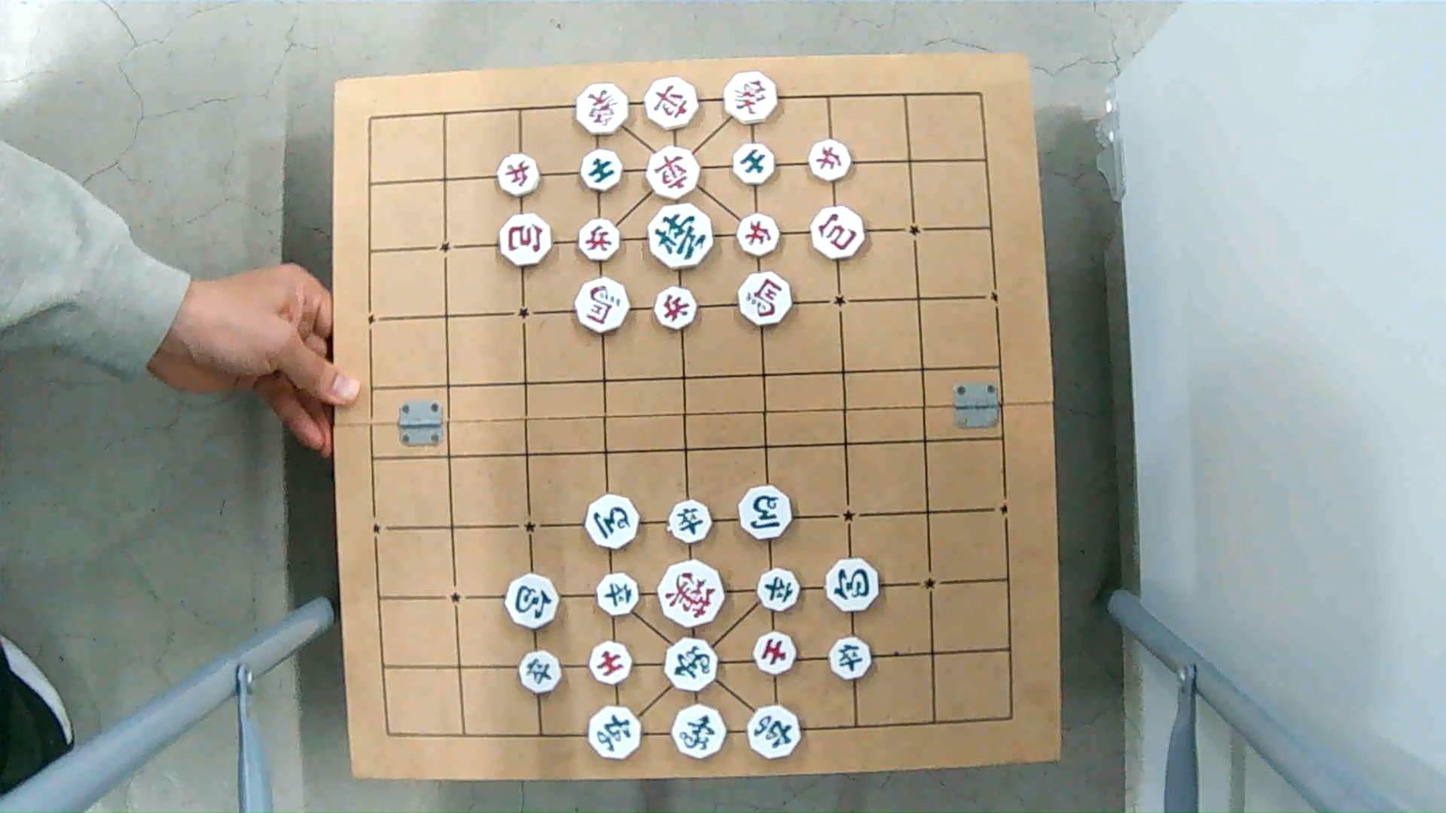cha_green: (589, 708, 645, 759), (750, 705, 803, 758)
cha_red: (645, 148, 701, 197), (644, 78, 700, 126)
jol_green: (667, 501, 713, 542), (593, 577, 639, 618), (829, 640, 874, 681), (756, 568, 801, 608), (521, 653, 564, 693)
jol_red: (737, 214, 782, 254), (654, 289, 699, 328), (496, 157, 540, 196), (576, 221, 620, 260), (808, 142, 852, 180)
ma_green: (584, 493, 645, 550), (739, 488, 795, 537)
ma_red: (573, 279, 632, 333), (739, 273, 796, 327)
po_green: (505, 576, 560, 626), (826, 562, 882, 611)
po_red: (813, 210, 868, 259), (499, 216, 551, 264)
sa_green: (578, 148, 625, 192), (731, 143, 778, 186)
sa_red: (588, 638, 635, 685), (754, 632, 798, 672)
sang_green: (662, 637, 722, 693), (673, 703, 728, 758)
sang_red: (722, 75, 779, 123), (576, 87, 630, 136)
wang_green: (647, 206, 716, 268)
wang_red: (660, 563, 727, 626)
